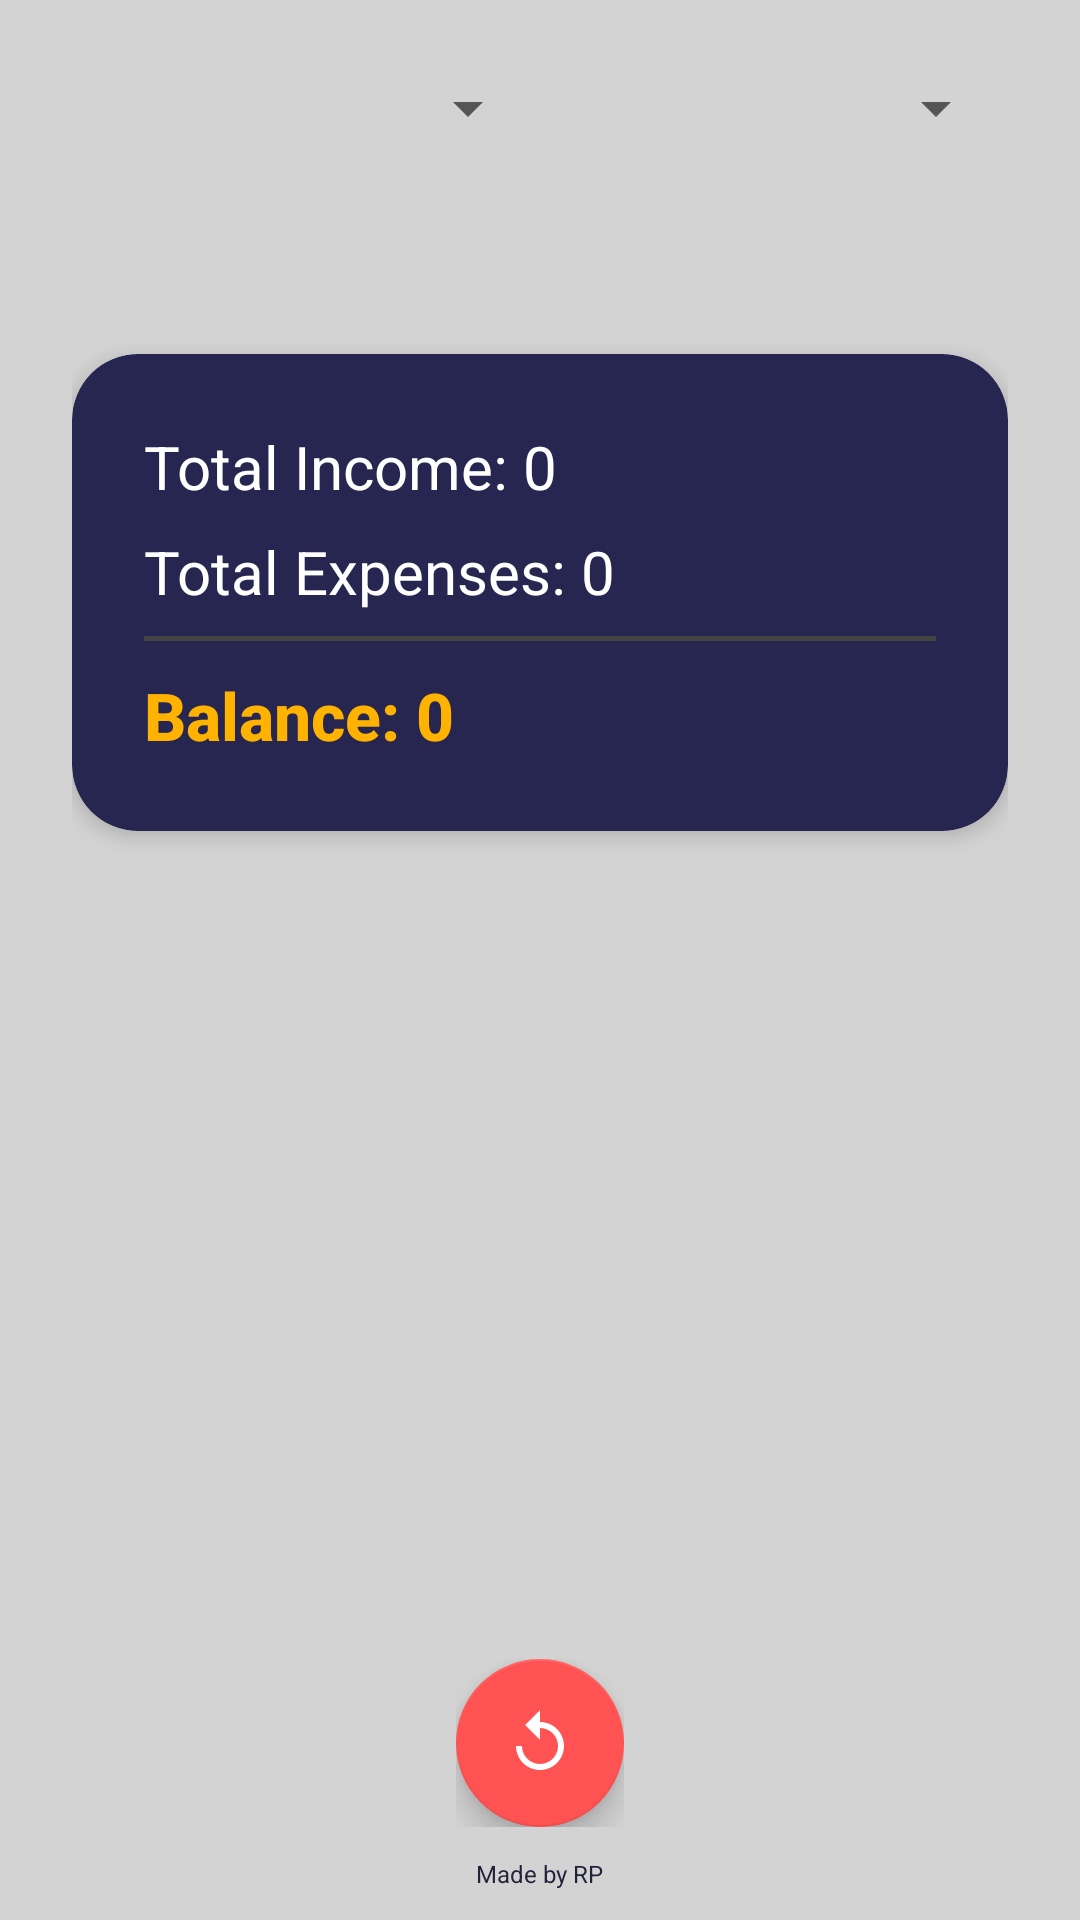

Icon click points for this 1080 x 1920 phone screenshot, format [x,y]:
Reset: [540,1743]
